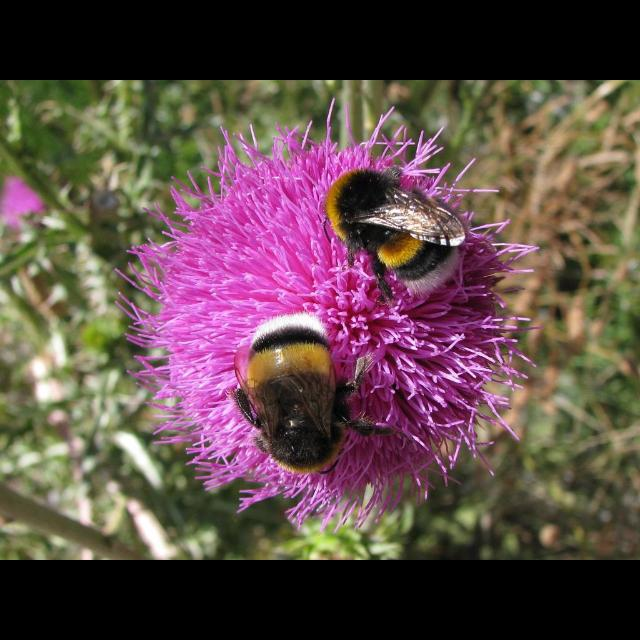Flower: (97, 108, 571, 552)
